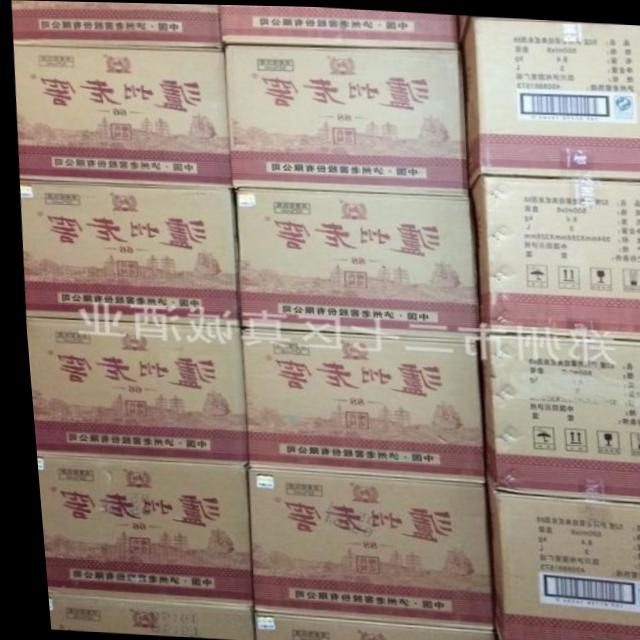box: (240, 466, 484, 628), (236, 327, 479, 481), (230, 186, 471, 340), (223, 43, 466, 193), (20, 317, 240, 464), (29, 455, 241, 605), (460, 13, 640, 188), (16, 182, 236, 325), (12, 45, 229, 187), (473, 332, 640, 502), (467, 175, 640, 338), (476, 488, 640, 640), (11, 0, 220, 49), (220, 4, 458, 46), (38, 595, 241, 640), (242, 609, 484, 640)
